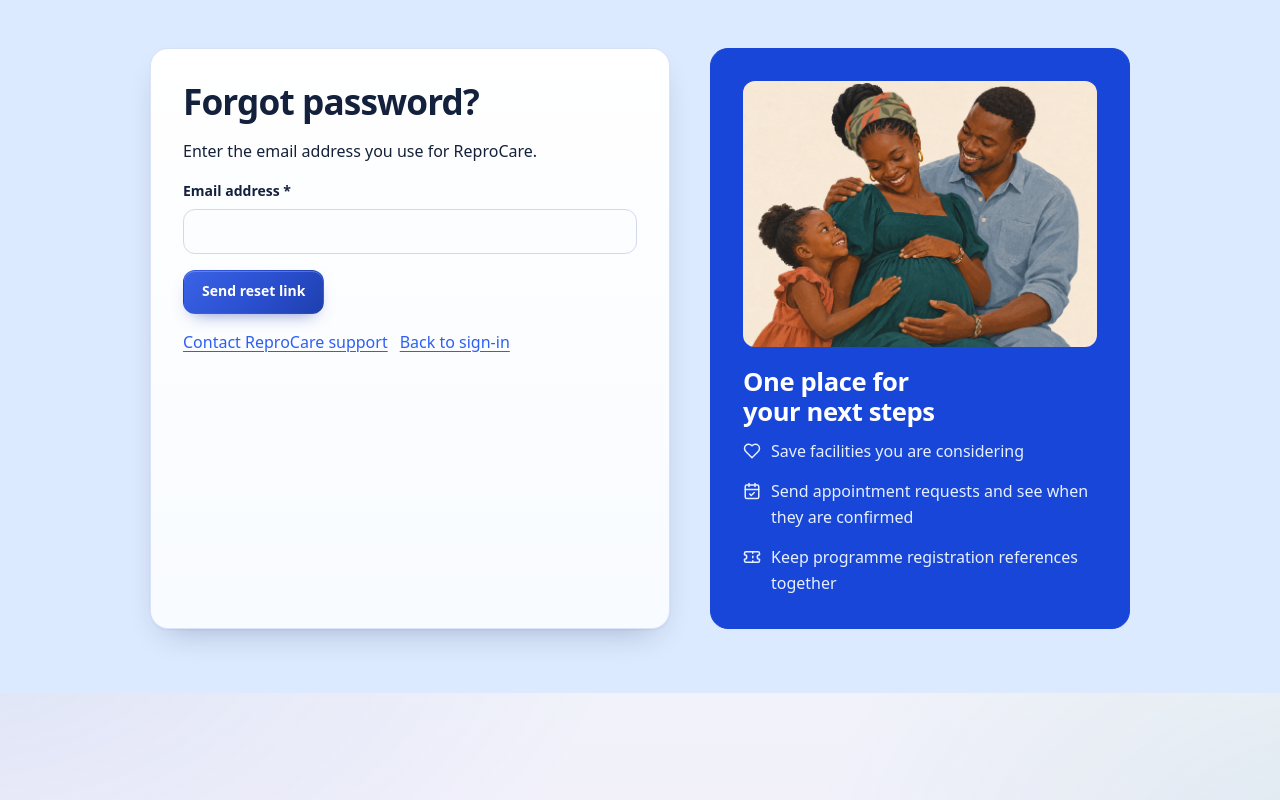
password recovery › submits a recovery request and renders a neutral acceptance message
Type "test@example.com" into the field labelled "Email address *". click: (410, 231)
box: [183,209,637,254]
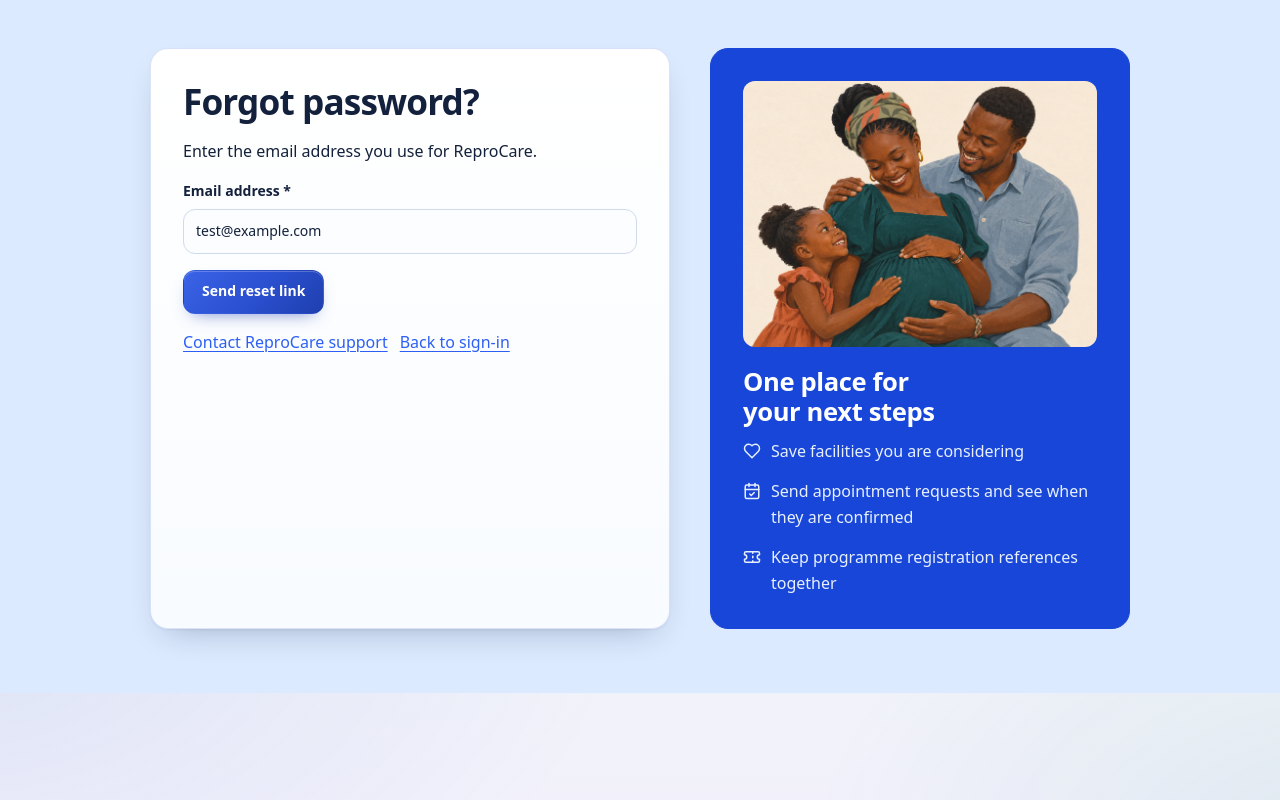
Click the button "Send reset link". click: (254, 292)
box: [183,270,324,314]
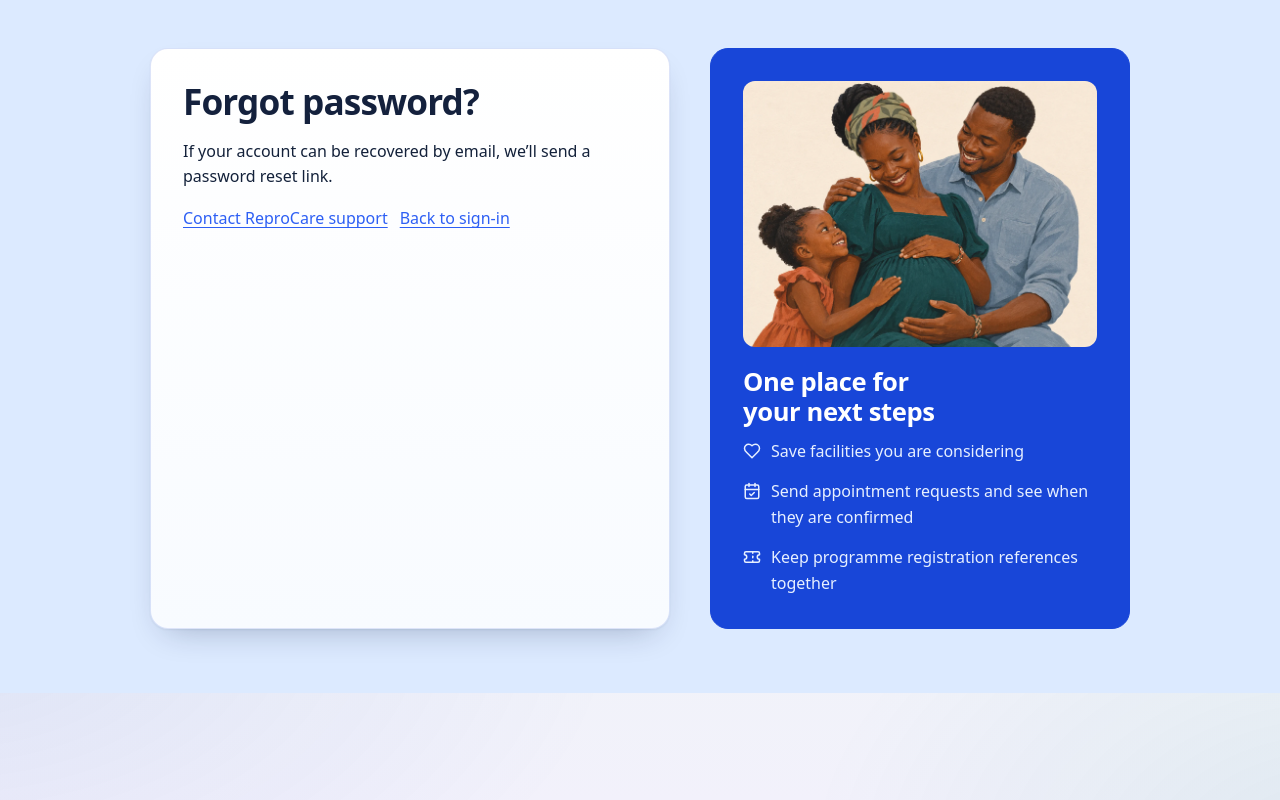
Now the text "If your account can be recovered by email, we’ll send a password reset link." is shown, box [183,138,637,190]
